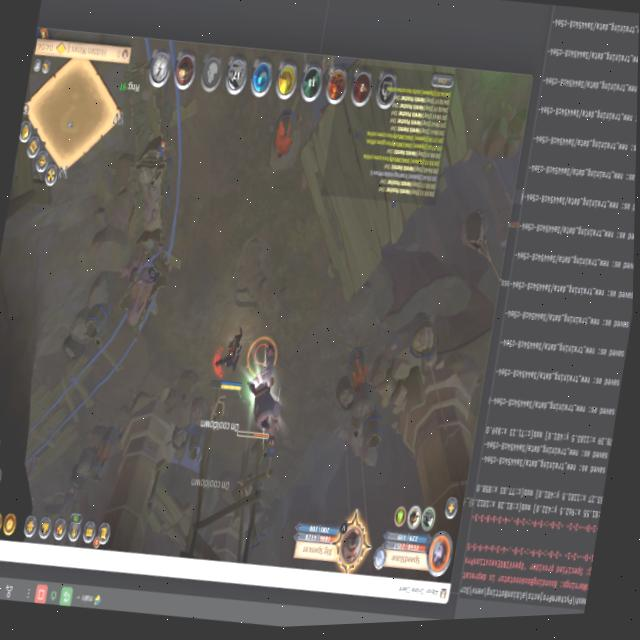ore: (227, 330, 297, 450), (55, 481, 75, 518), (25, 452, 40, 482)
red: (206, 320, 255, 402)
